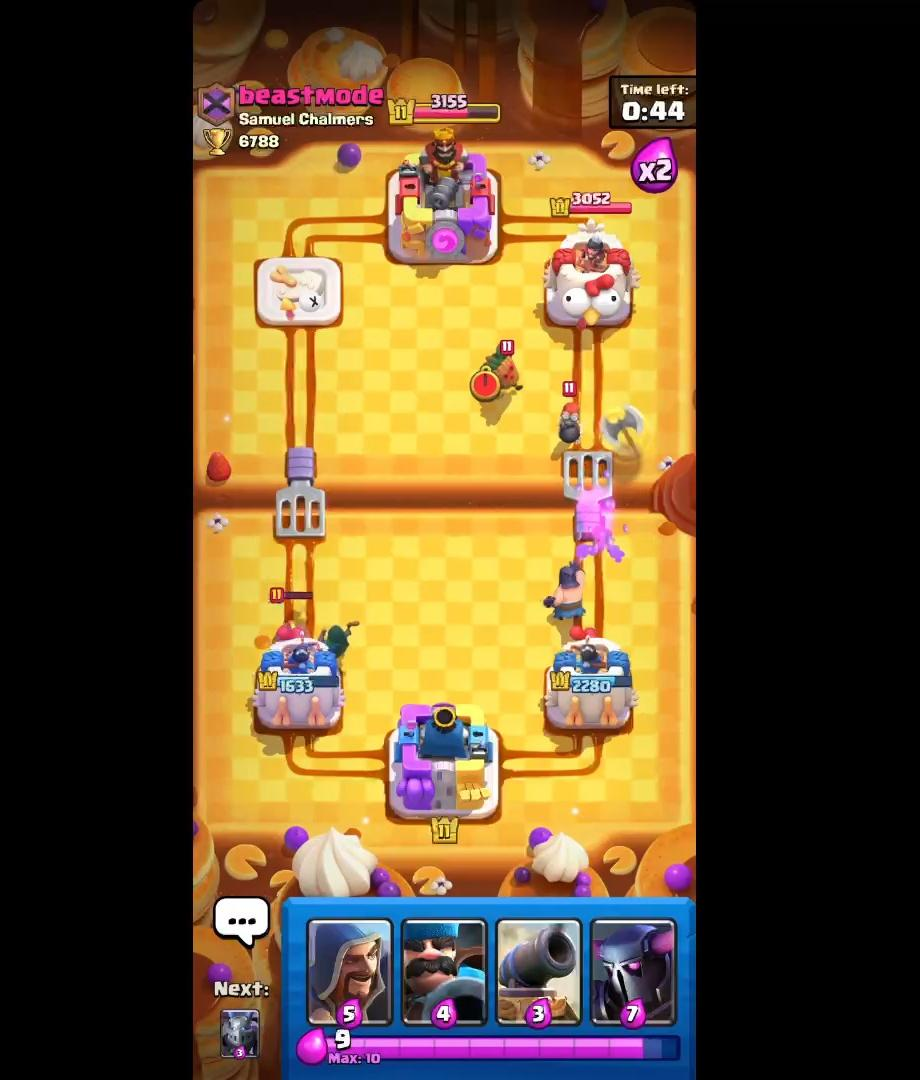Bomber: (550, 381, 589, 451)
